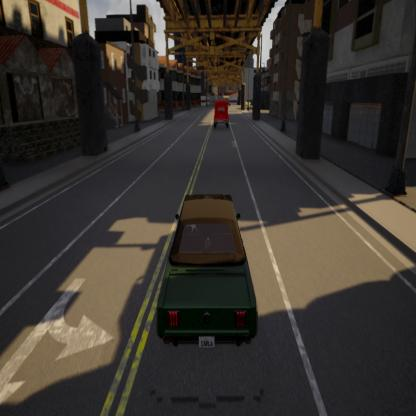Cars: (150, 182, 270, 359), (211, 93, 233, 130)
